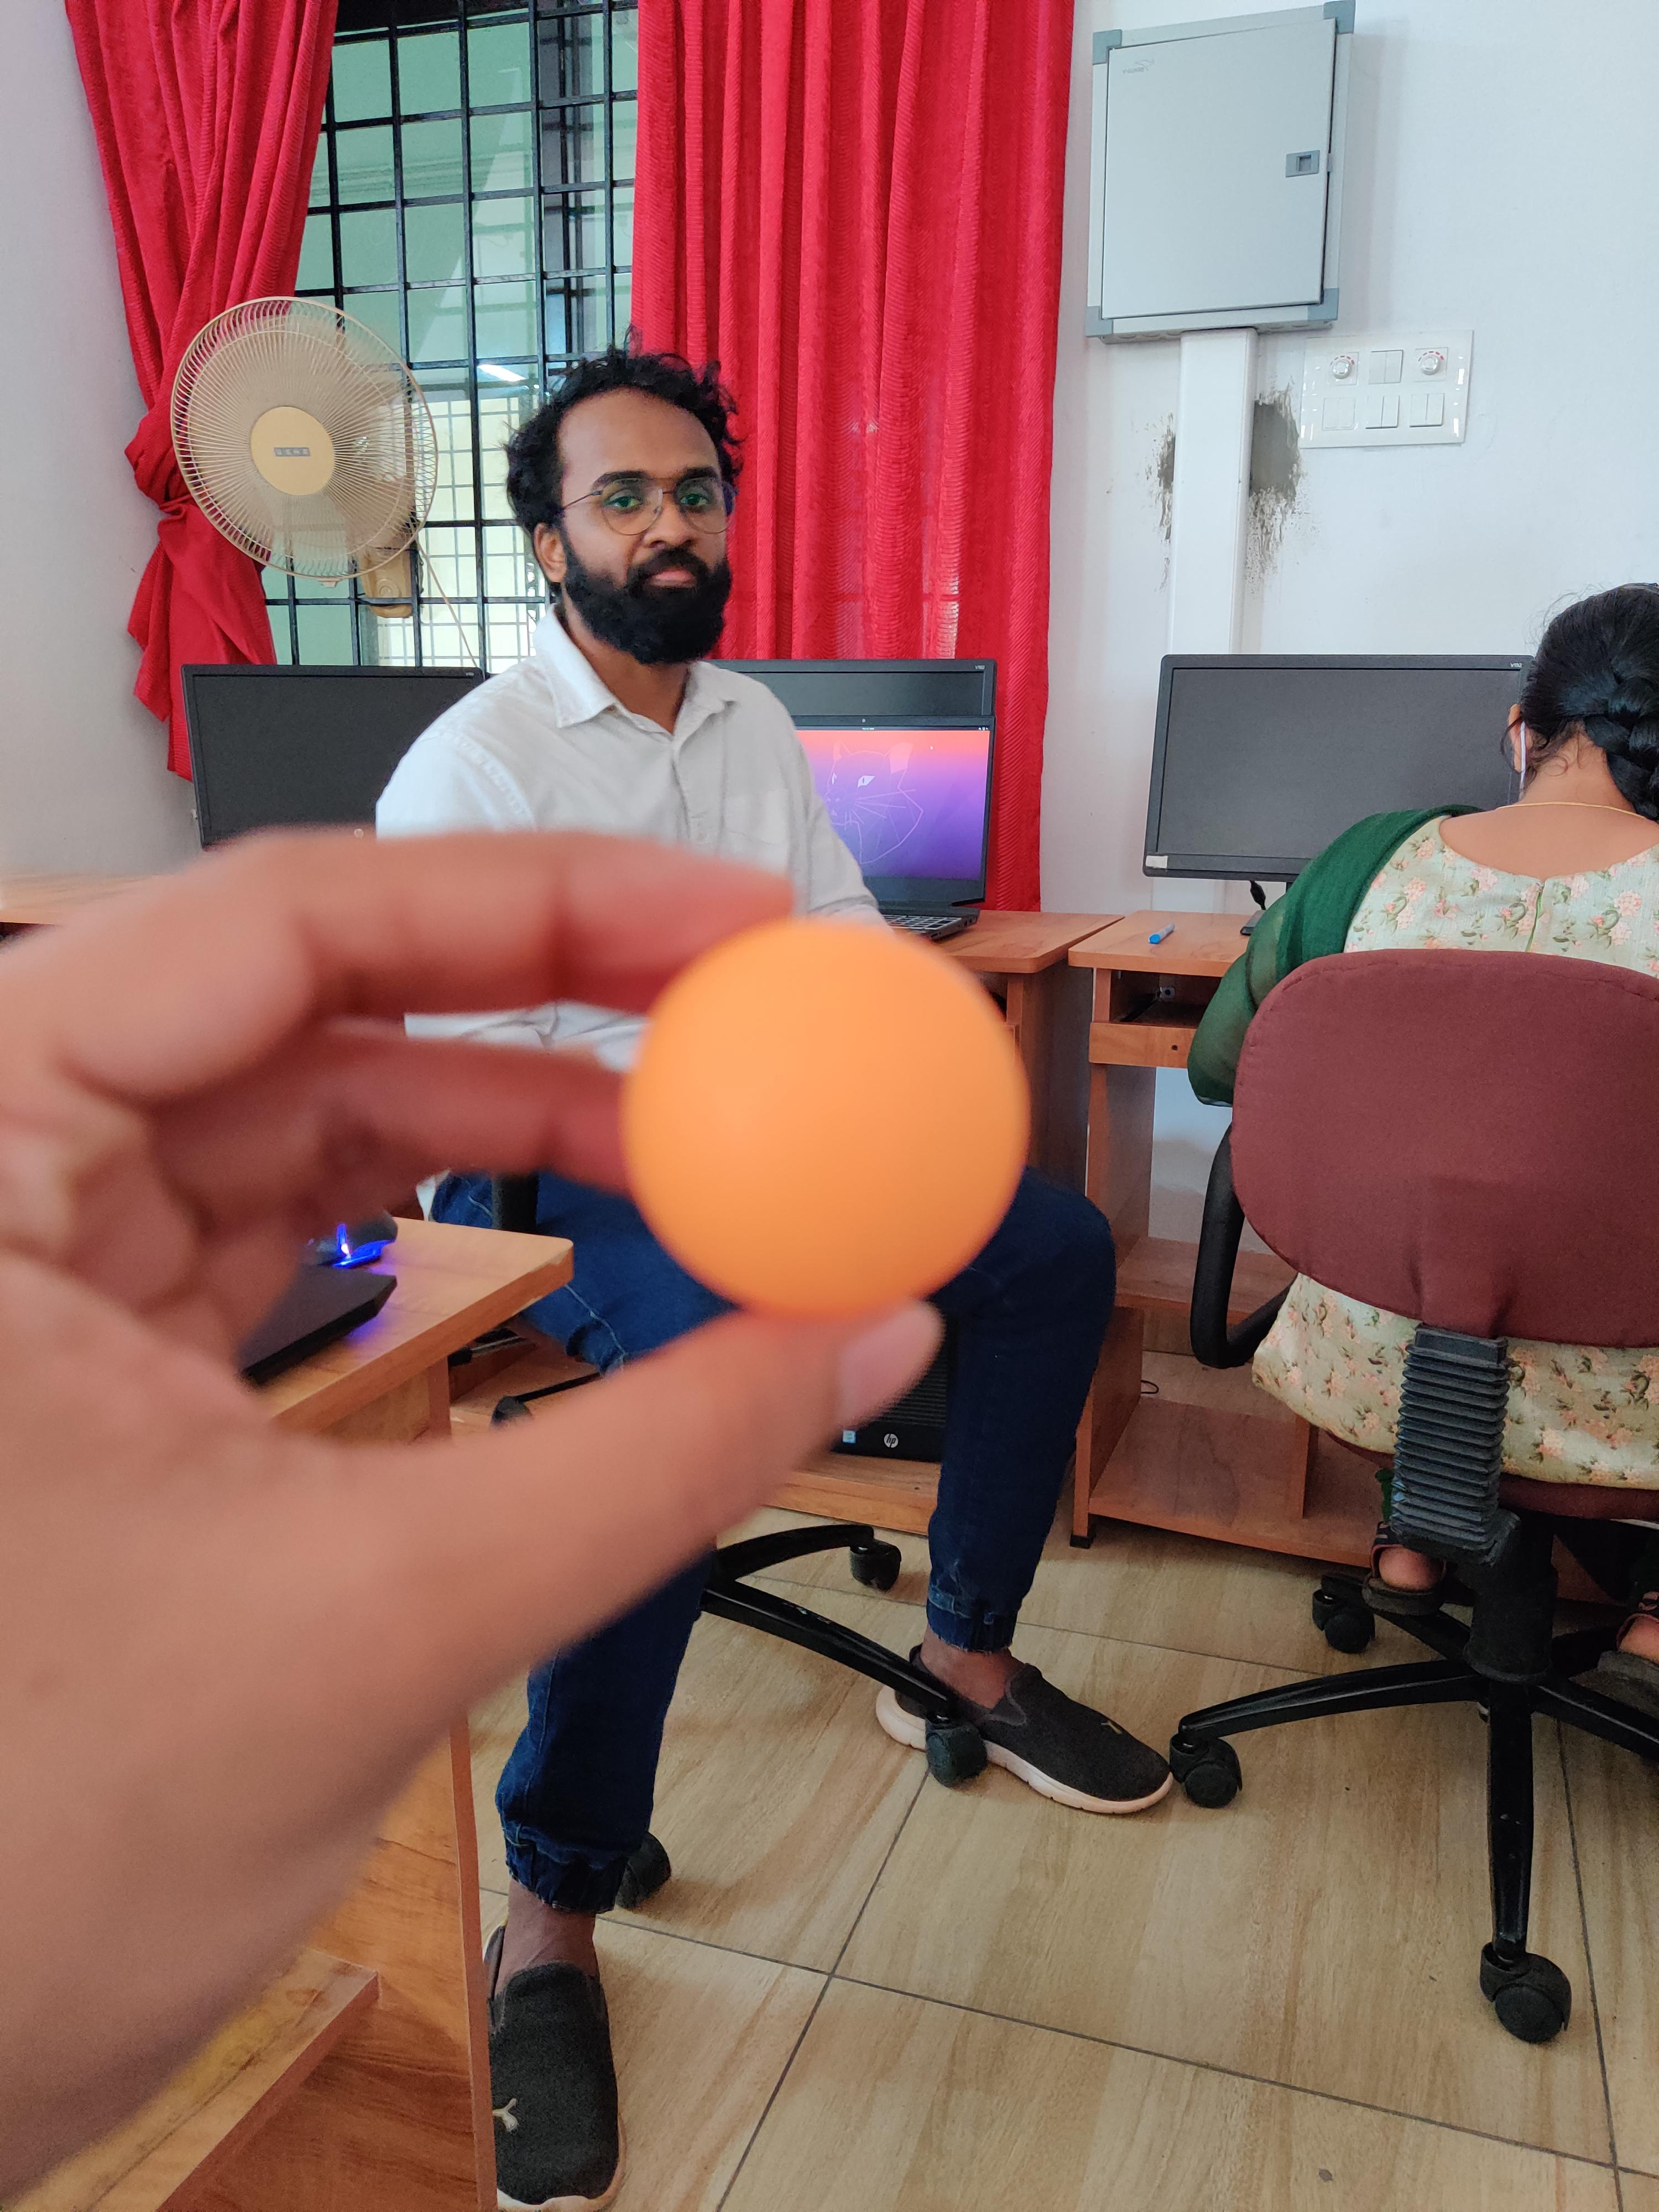orange: (617, 920, 1028, 1310)
